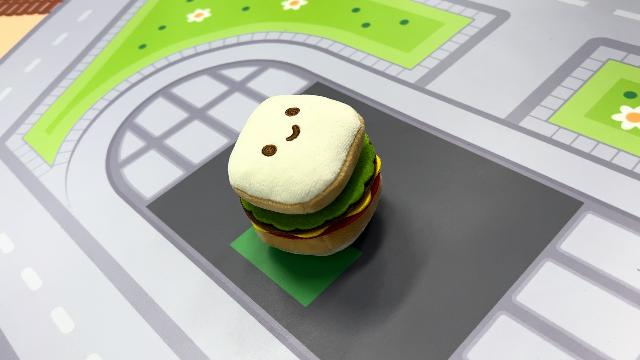sandwich: (226, 91, 384, 257)
